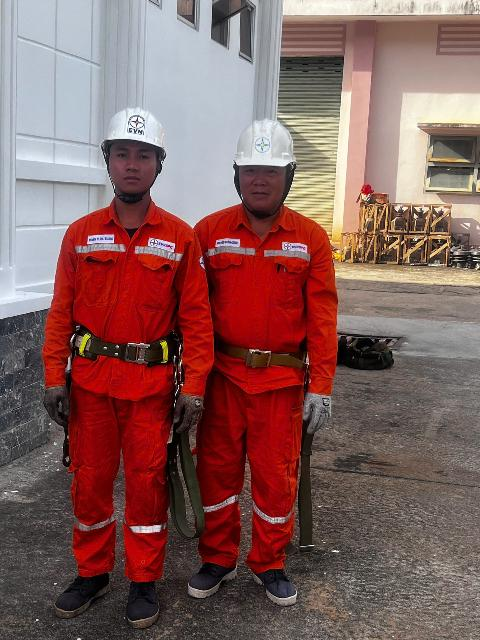gloves: (294, 390, 350, 451), (35, 380, 89, 441), (160, 388, 216, 433)
harness: (59, 312, 196, 373), (202, 322, 320, 378)
helmet: (92, 100, 205, 191), (211, 100, 318, 187)
shoes: (48, 565, 129, 627), (114, 565, 172, 630), (254, 550, 314, 609), (185, 549, 241, 612)
